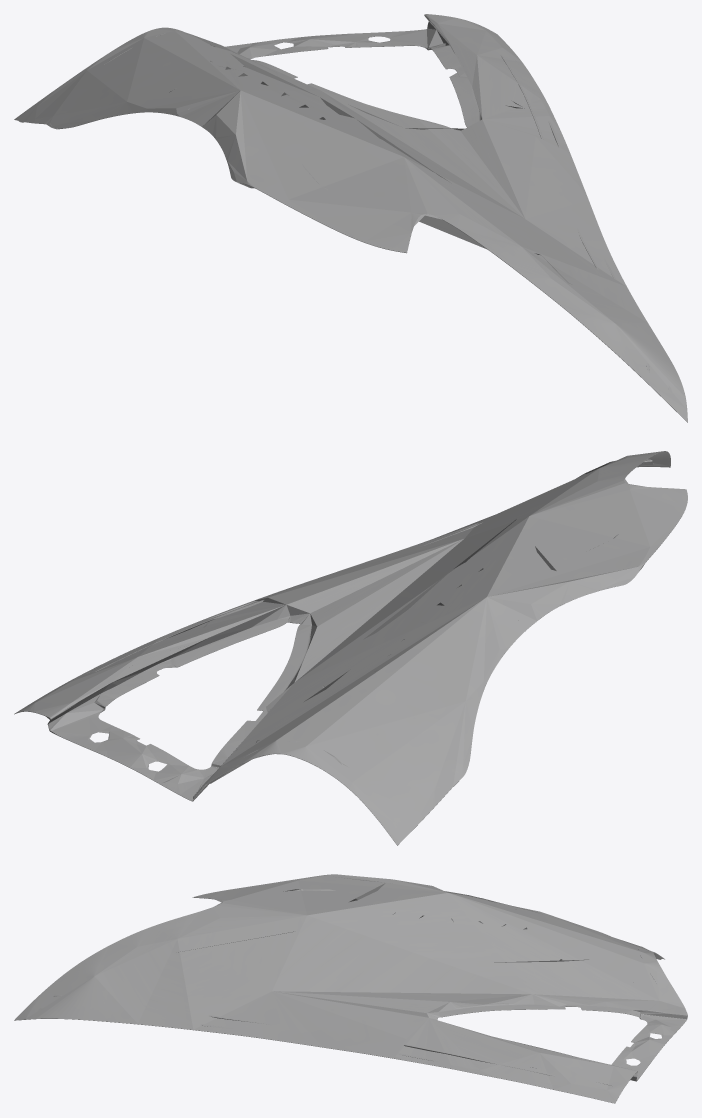
File: bodyPart_fender_rear_b01.glb
The picture shows the model from 3 angles, top to bottom: view 1: azimuth 30°, elevation 25°; view 2: azimuth 150°, elevation 25°; view 3: azimuth 270°, elevation 25°; orthographic projection. The views are drawn at different scales.
Visible parts, largest first — view 1: geometry_0; view 2: geometry_0; view 3: geometry_0.
Boxes of the visible parts, x1=… form: geometry_0: x1=14, y1=14, x2=687, y2=422; geometry_0: x1=14, y1=451, x2=687, y2=845; geometry_0: x1=14, y1=874, x2=687, y2=1103.
Bounding box in the file's own units: 0.2238 × 0.0614 × 0.42.
Materials: 1 (1 with a texture image).
